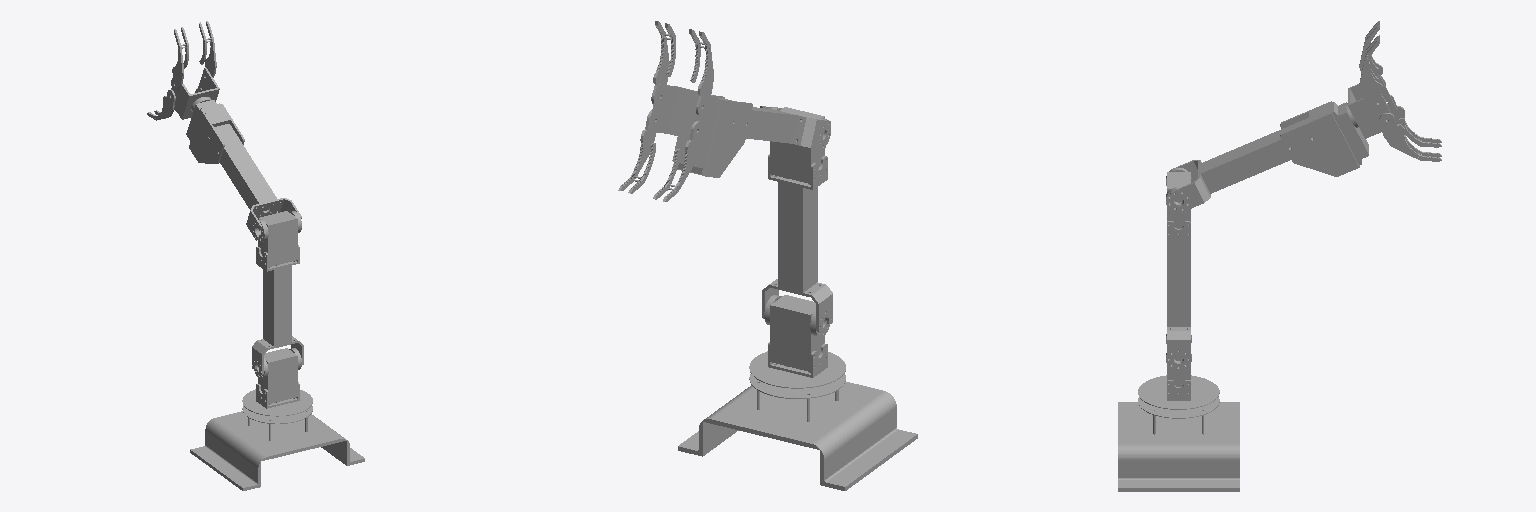
robot.urdf — robot_ver7:
<?xml version="1.0" ?>
<!-- =================================================================================== -->
<!-- |    This document was autogenerated by xacro from urdf\robot_ver7.xacro.temp     | -->
<!-- |    EDITING THIS FILE BY HAND IS NOT RECOMMENDED                                 | -->
<!-- =================================================================================== -->
<robot xmlns:xacro="http://www.ros.org/wiki/xacro" name="robot_ver7">
  <material name="silver">
    <color rgba="0.700 0.700 0.700 1.000"/>
  </material>
  <transmission name="Revolute 1_tran">
    <type>transmission_interface/SimpleTransmission</type>
    <joint name="Revolute 1">
      <hardwareInterface>hardware_interface/EffortJointInterface</hardwareInterface>
    </joint>
    <actuator name="Revolute 1_actr">
      <hardwareInterface>hardware_interface/EffortJointInterface</hardwareInterface>
      <mechanicalReduction>1</mechanicalReduction>
    </actuator>
  </transmission>
  <transmission name="Revolute 2_tran">
    <type>transmission_interface/SimpleTransmission</type>
    <joint name="Revolute 2">
      <hardwareInterface>hardware_interface/EffortJointInterface</hardwareInterface>
    </joint>
    <actuator name="Revolute 2_actr">
      <hardwareInterface>hardware_interface/EffortJointInterface</hardwareInterface>
      <mechanicalReduction>1</mechanicalReduction>
    </actuator>
  </transmission>
  <transmission name="Revolute 3_tran">
    <type>transmission_interface/SimpleTransmission</type>
    <joint name="Revolute 3">
      <hardwareInterface>hardware_interface/EffortJointInterface</hardwareInterface>
    </joint>
    <actuator name="Revolute 3_actr">
      <hardwareInterface>hardware_interface/EffortJointInterface</hardwareInterface>
      <mechanicalReduction>1</mechanicalReduction>
    </actuator>
  </transmission>
  <transmission name="Revolute 4_tran">
    <type>transmission_interface/SimpleTransmission</type>
    <joint name="Revolute 4">
      <hardwareInterface>hardware_interface/EffortJointInterface</hardwareInterface>
    </joint>
    <actuator name="Revolute 4_actr">
      <hardwareInterface>hardware_interface/EffortJointInterface</hardwareInterface>
      <mechanicalReduction>1</mechanicalReduction>
    </actuator>
  </transmission>
  <transmission name="Revolute 6_tran">
    <type>transmission_interface/SimpleTransmission</type>
    <joint name="Revolute 6">
      <hardwareInterface>hardware_interface/EffortJointInterface</hardwareInterface>
    </joint>
    <actuator name="Revolute 6_actr">
      <hardwareInterface>hardware_interface/EffortJointInterface</hardwareInterface>
      <mechanicalReduction>1</mechanicalReduction>
    </actuator>
  </transmission>
  <transmission name="Revolute 7_tran">
    <type>transmission_interface/SimpleTransmission</type>
    <joint name="Revolute 7">
      <hardwareInterface>hardware_interface/EffortJointInterface</hardwareInterface>
    </joint>
    <actuator name="Revolute 7_actr">
      <hardwareInterface>hardware_interface/EffortJointInterface</hardwareInterface>
      <mechanicalReduction>1</mechanicalReduction>
    </actuator>
  </transmission>
  <transmission name="Revolute 8_tran">
    <type>transmission_interface/SimpleTransmission</type>
    <joint name="Revolute 8">
      <hardwareInterface>hardware_interface/EffortJointInterface</hardwareInterface>
    </joint>
    <actuator name="Revolute 8_actr">
      <hardwareInterface>hardware_interface/EffortJointInterface</hardwareInterface>
      <mechanicalReduction>1</mechanicalReduction>
    </actuator>
  </transmission>
  <transmission name="Revolute 9_tran">
    <type>transmission_interface/SimpleTransmission</type>
    <joint name="Revolute 9">
      <hardwareInterface>hardware_interface/EffortJointInterface</hardwareInterface>
    </joint>
    <actuator name="Revolute 9_actr">
      <hardwareInterface>hardware_interface/EffortJointInterface</hardwareInterface>
      <mechanicalReduction>1</mechanicalReduction>
    </actuator>
  </transmission>
  <!-- omitted .gazebo include -->
  <link name="base_link">
    <inertial>
      <origin xyz="2.989375374043843 1.1395251464843752 0.07612872006595212" rpy="0 0 0"/>
      <mass value="1.6067306789990348"/>
      <inertia ixx="0.003521" iyy="0.006468" izz="0.008802" ixy="0.0" iyz="0.0" ixz="0.0"/>
    </inertial>
    <visual>
      <origin xyz="0 0 0" rpy="0 0 0"/>
      <geometry>
        <mesh filename="robot_ver7_description/meshes/base_link.stl" scale="0.001 0.001 0.001"/>
      </geometry>
      <material name="silver"/>
    </visual>
    <collision>
      <origin xyz="0 0 0" rpy="0 0 0"/>
      <geometry>
        <mesh filename="robot_ver7_description/meshes/base_link.stl" scale="0.001 0.001 0.001"/>
      </geometry>
    </collision>
  </link>
  <link name="link_1_1">
    <inertial>
      <origin xyz="2.079701455492966e-07 1.4648437618447474e-07 0.04484473463010137" rpy="0 0 0"/>
      <mass value="0.8724221516717876"/>
      <inertia ixx="0.000529" iyy="0.000636" izz="0.000308" ixy="-0.0" iyz="-0.0" ixz="-0.0"/>
    </inertial>
    <visual>
      <origin xyz="-2.989375 -1.139525 -0.122186" rpy="0 0 0"/>
      <geometry>
        <mesh filename="robot_ver7_description/meshes/link_1_1.stl" scale="0.001 0.001 0.001"/>
      </geometry>
      <material name="silver"/>
    </visual>
    <collision>
      <origin xyz="-2.989375 -1.139525 -0.122186" rpy="0 0 0"/>
      <geometry>
        <mesh filename="robot_ver7_description/meshes/link_1_1.stl" scale="0.001 0.001 0.001"/>
      </geometry>
    </collision>
  </link>
  <link name="link_2_1">
    <inertial>
      <origin xyz="2.938858791878829e-07 1.4648438195763447e-07 0.13199352594951688" rpy="0 0 0"/>
      <mass value="1.7894494256516804"/>
      <inertia ixx="0.007559" iyy="0.007762" izz="0.000473" ixy="0.0" iyz="0.0" ixz="0.0"/>
    </inertial>
    <visual>
      <origin xyz="-2.989375 -1.139525 -0.192528" rpy="0 0 0"/>
      <geometry>
        <mesh filename="robot_ver7_description/meshes/link_2_1.stl" scale="0.001 0.001 0.001"/>
      </geometry>
      <material name="silver"/>
    </visual>
    <collision>
      <origin xyz="-2.989375 -1.139525 -0.192528" rpy="0 0 0"/>
      <geometry>
        <mesh filename="robot_ver7_description/meshes/link_2_1.stl" scale="0.001 0.001 0.001"/>
      </geometry>
    </collision>
  </link>
  <link name="link_3_1">
    <inertial>
      <origin xyz="3.756619166850328e-07 0.008180253565493123 0.1490707247075182" rpy="0 0 0"/>
      <mass value="2.3011672222568587"/>
      <inertia ixx="0.010731" iyy="0.010238" izz="0.001122" ixy="-0.0" iyz="-0.001076" ixz="0.0"/>
    </inertial>
    <visual>
      <origin xyz="-2.989375 -1.139525 -0.40687" rpy="0 0 0"/>
      <geometry>
        <mesh filename="robot_ver7_description/meshes/link_3_1.stl" scale="0.001 0.001 0.001"/>
      </geometry>
      <material name="silver"/>
    </visual>
    <collision>
      <origin xyz="-2.989375 -1.139525 -0.40687" rpy="0 0 0"/>
      <geometry>
        <mesh filename="robot_ver7_description/meshes/link_3_1.stl" scale="0.001 0.001 0.001"/>
      </geometry>
    </collision>
  </link>
  <link name="link_4_1">
    <inertial>
      <origin xyz="3.7566188737514494e-07 1.4648436263975384e-07 0.018168573469312888" rpy="0 0 0"/>
      <mass value="0.1836674229836166"/>
      <inertia ixx="7.1e-05" iyy="0.000103" izz="0.0001" ixy="0.0" iyz="0.0" ixz="0.0"/>
    </inertial>
    <visual>
      <origin xyz="-2.989375 -1.138027 -0.64097" rpy="0 0 0"/>
      <geometry>
        <mesh filename="robot_ver7_description/meshes/link_4_1.stl" scale="0.001 0.001 0.001"/>
      </geometry>
      <material name="silver"/>
    </visual>
    <collision>
      <origin xyz="-2.989375 -1.138027 -0.64097" rpy="0 0 0"/>
      <geometry>
        <mesh filename="robot_ver7_description/meshes/link_4_1.stl" scale="0.001 0.001 0.001"/>
      </geometry>
    </collision>
  </link>
  <link name="grap_1_1">
    <inertial>
      <origin xyz="0.0011129810331476087 0.032768250662570164 0.005980783412323998" rpy="0 0 0"/>
      <mass value="0.04062678364093055"/>
      <inertia ixx="2.7e-05" iyy="6e-06" izz="2.3e-05" ixy="-2e-06" iyz="-7e-06" ixz="-1e-06"/>
    </inertial>
    <visual>
      <origin xyz="-2.964375 -1.150527 -0.68317" rpy="0 0 0"/>
      <geometry>
        <mesh filename="robot_ver7_description/meshes/grap_1_1.stl" scale="0.001 0.001 0.001"/>
      </geometry>
      <material name="silver"/>
    </visual>
    <collision>
      <origin xyz="-2.964375 -1.150527 -0.68317" rpy="0 0 0"/>
      <geometry>
        <mesh filename="robot_ver7_description/meshes/grap_1_1.stl" scale="0.001 0.001 0.001"/>
      </geometry>
    </collision>
  </link>
  <link name="grap_2_1">
    <inertial>
      <origin xyz="0.001112981033148941 -0.032767957693844885 0.0059807834123277726" rpy="0 0 0"/>
      <mass value="0.040626783640931016"/>
      <inertia ixx="2.7e-05" iyy="6e-06" izz="2.3e-05" ixy="2e-06" iyz="7e-06" ixz="-1e-06"/>
    </inertial>
    <visual>
      <origin xyz="-2.964375 -1.125527 -0.68317" rpy="0 0 0"/>
      <geometry>
        <mesh filename="robot_ver7_description/meshes/grap_2_1.stl" scale="0.001 0.001 0.001"/>
      </geometry>
      <material name="silver"/>
    </visual>
    <collision>
      <origin xyz="-2.964375 -1.125527 -0.68317" rpy="0 0 0"/>
      <geometry>
        <mesh filename="robot_ver7_description/meshes/grap_2_1.stl" scale="0.001 0.001 0.001"/>
      </geometry>
    </collision>
  </link>
  <link name="grap1_2_1">
    <inertial>
      <origin xyz="-0.0011122297093195677 0.032768250662569276 0.005980783412327106" rpy="0 0 0"/>
      <mass value="0.040626783640930565"/>
      <inertia ixx="2.7e-05" iyy="6e-06" izz="2.3e-05" ixy="2e-06" iyz="-7e-06" ixz="1e-06"/>
    </inertial>
    <visual>
      <origin xyz="-3.014375 -1.150527 -0.68317" rpy="0 0 0"/>
      <geometry>
        <mesh filename="robot_ver7_description/meshes/grap1_2_1.stl" scale="0.001 0.001 0.001"/>
      </geometry>
      <material name="silver"/>
    </visual>
    <collision>
      <origin xyz="-3.014375 -1.150527 -0.68317" rpy="0 0 0"/>
      <geometry>
        <mesh filename="robot_ver7_description/meshes/grap1_2_1.stl" scale="0.001 0.001 0.001"/>
      </geometry>
    </collision>
  </link>
  <link name="grap2_2_1">
    <inertial>
      <origin xyz="-0.0011122297093182354 -0.03276795769384622 0.005980783412324442" rpy="0 0 0"/>
      <mass value="0.040626783640930315"/>
      <inertia ixx="2.7e-05" iyy="6e-06" izz="2.3e-05" ixy="-2e-06" iyz="7e-06" ixz="1e-06"/>
    </inertial>
    <visual>
      <origin xyz="-3.014375 -1.125527 -0.68317" rpy="0 0 0"/>
      <geometry>
        <mesh filename="robot_ver7_description/meshes/grap2_2_1.stl" scale="0.001 0.001 0.001"/>
      </geometry>
      <material name="silver"/>
    </visual>
    <collision>
      <origin xyz="-3.014375 -1.125527 -0.68317" rpy="0 0 0"/>
      <geometry>
        <mesh filename="robot_ver7_description/meshes/grap2_2_1.stl" scale="0.001 0.001 0.001"/>
      </geometry>
    </collision>
  </link>
  <joint name="Revolute 1" type="revolute">
    <origin xyz="2.989375 1.139525 0.122186" rpy="0 0 0"/>
    <parent link="base_link"/>
    <child link="link_1_1"/>
    <axis xyz="0.0 0.0 1.0"/>
    <limit lower="-1.5708" upper="1.5708" />  
  </joint>
  <joint name="Revolute 2" type="revolute">
    <origin xyz="0.0 0.0 0.070342" rpy="0 0 0"/>
    <parent link="link_1_1"/>
    <child link="link_2_1"/>
    <axis xyz="-1.0 0.0 -0.0"/>
    <limit lower="-1.5708" upper="1.39626" />
  </joint>
  <joint name="Revolute 3" type="revolute">
    <origin xyz="0.0 0.0 0.214342" rpy="0 0 0"/>
    <parent link="link_2_1"/>
    <child link="link_3_1"/>
    <axis xyz="-1.0 0.0 -0.0"/>
    <limit lower="0.349066" upper="1.91986" />  
  </joint>
  <joint name="Revolute 4" type="revolute">
    <origin xyz="0.0 -0.001498 0.2341" rpy="0 0 0"/>
    <parent link="link_3_1"/>
    <child link="link_4_1"/>
    <axis xyz="-0.0 0.0 1.0"/>
    <limit lower="0" upper="3.14159" />  
  </joint>
  <joint name="Revolute 6" type="revolute">
    <origin xyz="-0.025 0.0125 0.0422" rpy="0 0 0"/>
    <parent link="link_4_1"/>
    <child link="grap_1_1"/>
    <axis xyz="-1.0 -0.0 -0.0"/>
    <limit lower="0" upper="3.14" /> 
  </joint>
  <joint name="Revolute 7" type="revolute">
    <origin xyz="-0.025 -0.0125 0.0422" rpy="0 0 0"/>
    <parent link="link_4_1"/>
    <child link="grap_2_1"/>
    <axis xyz="-1.0 -0.0 -0.0"/>
    <limit lower="0" upper="3.14" /> 
  </joint>
  <joint name="Revolute 8" type="revolute">
    <origin xyz="0.025 0.0125 0.0422" rpy="0 0 0"/>
    <parent link="link_4_1"/>
    <child link="grap1_2_1"/>
    <axis xyz="1.0 -0.0 0.0"/>
    <limit lower="0" upper="3.14" /> 
  </joint>
  <joint name="Revolute 9" type="revolute">
    <origin xyz="0.025 -0.0125 0.0422" rpy="0 0 0"/>
    <parent link="link_4_1"/>
    <child link="grap2_2_1"/>
    <axis xyz="1.0 0.0 0.0"/>
    <limit lower="0" upper="3.14" /> 
  </joint>
</robot>

--- Render facts (derived) ---
3 views of the same robot in one strip: view 1: azimuth 30°, elevation 25°; view 2: azimuth 150°, elevation 25°; view 3: azimuth 270°, elevation 25° (orthographic).
Robot: robot_ver7 — 9 links, 8 joints (8 revolute); root link base_link; default pose: all joints at 0 but 1 set to mid-range because 0 is outside their limits (Revolute 3 = 1.13).
Links seen in each view (by area): view 1: base_link, link_3_1, link_2_1, link_1_1, link_4_1, grap_2_1; view 2: base_link, link_2_1, link_3_1, link_1_1, link_4_1, grap_1_1, grap_2_1, grap1_2_1, grap2_2_1; view 3: base_link, link_3_1, link_2_1, link_1_1, link_4_1, grap1_2_1, grap2_2_1, grap_1_1.
Link boxes in pixels (x1,y1,x2,y2): base_link: (190,405,364,490); link_3_1: (186,100,301,241); link_2_1: (252,211,303,378); link_1_1: (242,348,312,416); link_4_1: (171,67,219,119); grap_2_1: (171,27,188,90); base_link: (678,374,917,490); link_2_1: (762,107,832,337); link_3_1: (672,95,830,177); link_1_1: (749,295,845,388); link_4_1: (648,84,718,143); grap_1_1: (653,121,702,201); grap_2_1: (689,29,713,115); grap1_2_1: (618,110,655,193); grap2_2_1: (651,21,675,103); base_link: (1118,397,1239,491); link_3_1: (1166,101,1368,212); link_2_1: (1166,172,1191,370); link_1_1: (1138,356,1219,409); link_4_1: (1346,75,1396,138); grap1_2_1: (1379,113,1441,161); grap2_2_1: (1359,35,1385,110); grap_1_1: (1386,95,1441,147).
Bounding box of the posed robot: 0.2 × 0.3978 × 0.5768 m (x, y, z).
9 mesh visuals loaded from 9 distinct referenced files (9 binary STL).